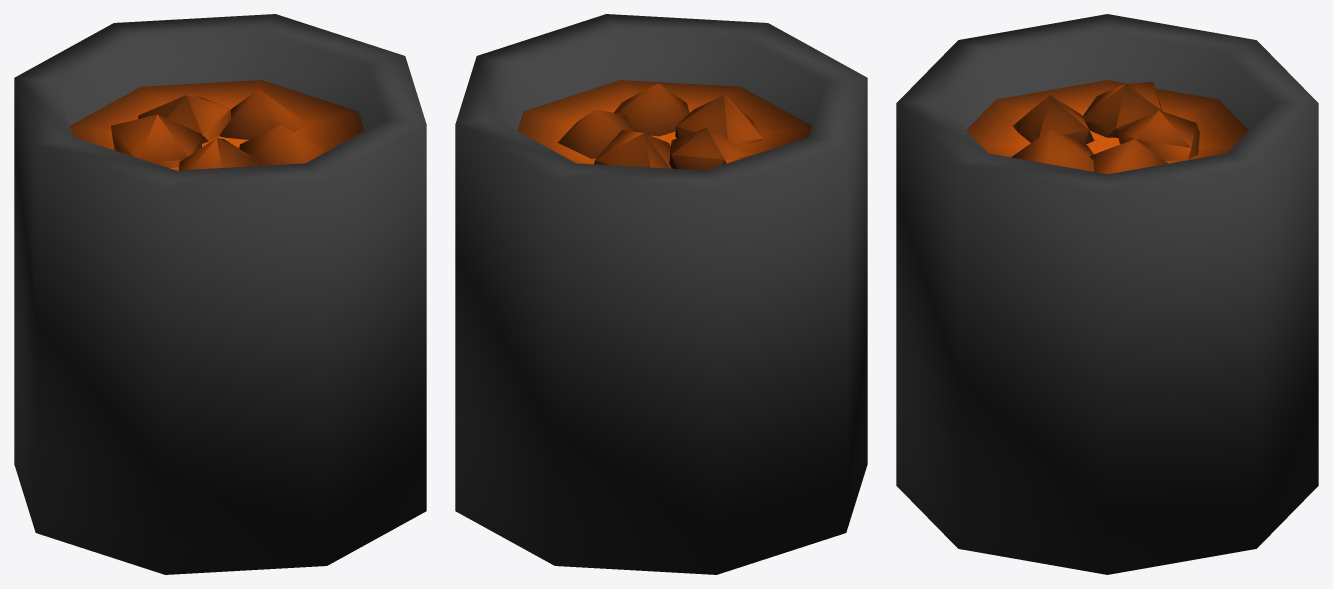
Rendered from Polybag.fbx.
3 renders of one model, left to right at view 1: azimuth 30°, elevation 25°; view 2: azimuth 150°, elevation 25°; view 3: azimuth 270°, elevation 25°, orthographic.
Visible parts, largest first — view 1: Cylinder.004; view 2: Cylinder.004; view 3: Cylinder.004.
Boxes of the visible parts, x1=… form: Cylinder.004: x1=14, y1=14, x2=426, y2=574; Cylinder.004: x1=455, y1=14, x2=867, y2=574; Cylinder.004: x1=896, y1=14, x2=1318, y2=574.
Bounding box in the file's own units: 96.98 × 96.98 × 96.98.
